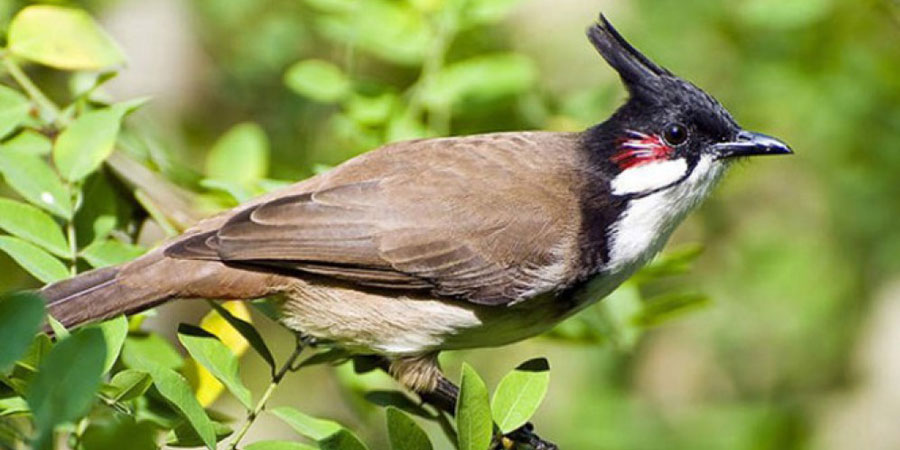bird: (27, 11, 798, 416)
